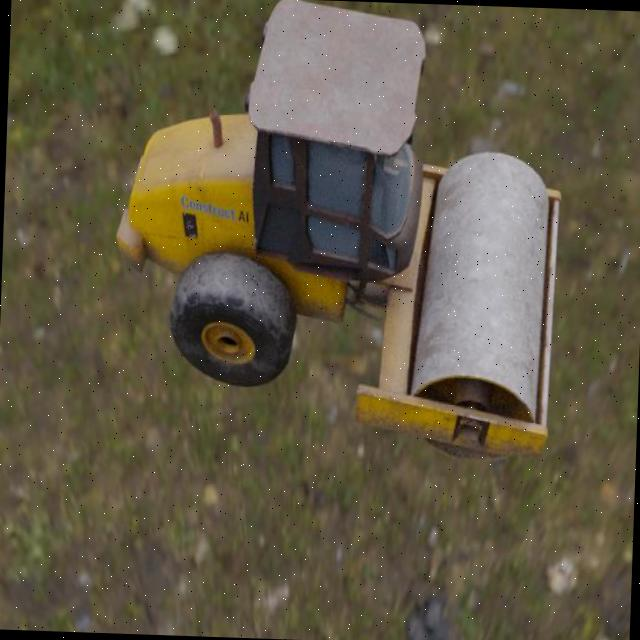Roller: (107, 0, 566, 465)
